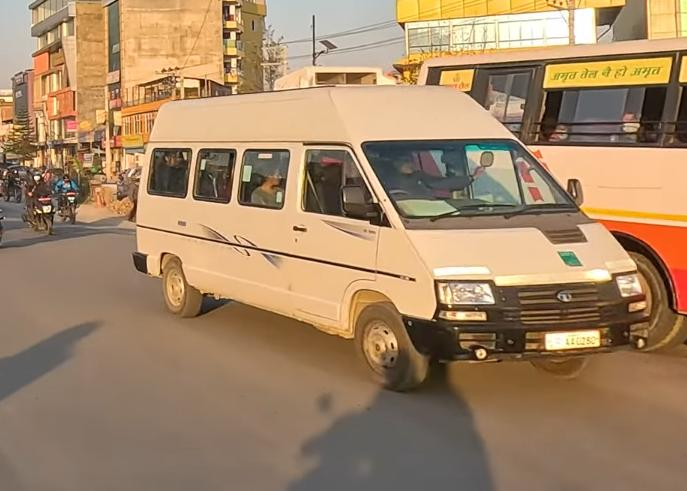bike: (54, 185, 78, 225)
micro_bus: (130, 81, 654, 398)
